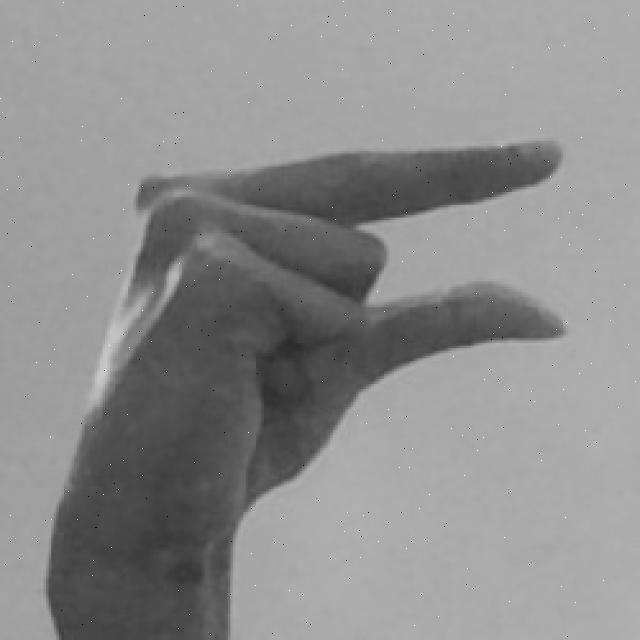G: (44, 135, 567, 640)
